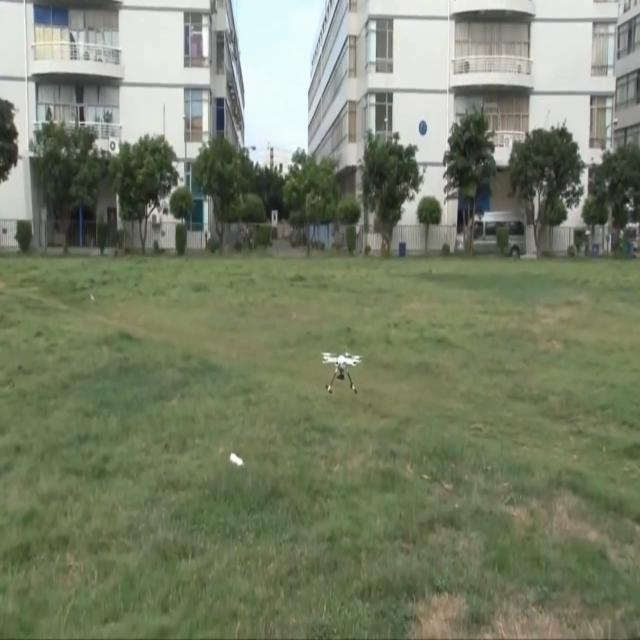drone: (321, 350, 362, 395)
